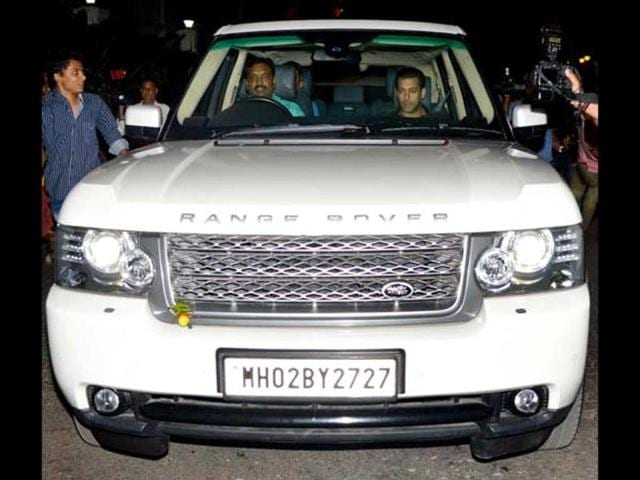number_plate: (220, 345, 406, 414)
